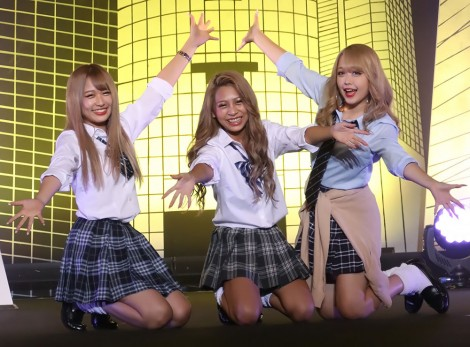face: (212, 82, 248, 132), (337, 54, 369, 104), (81, 74, 113, 121)
hand: (428, 180, 468, 217), (7, 199, 47, 234), (330, 121, 372, 150), (161, 173, 193, 209), (236, 9, 262, 52), (188, 11, 218, 44)
